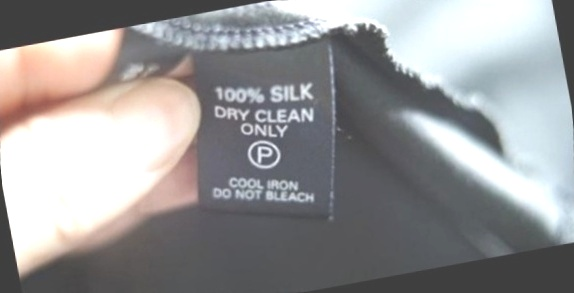dry_clean_any_solvent_except_trichloroethylene: (243, 133, 287, 175)
